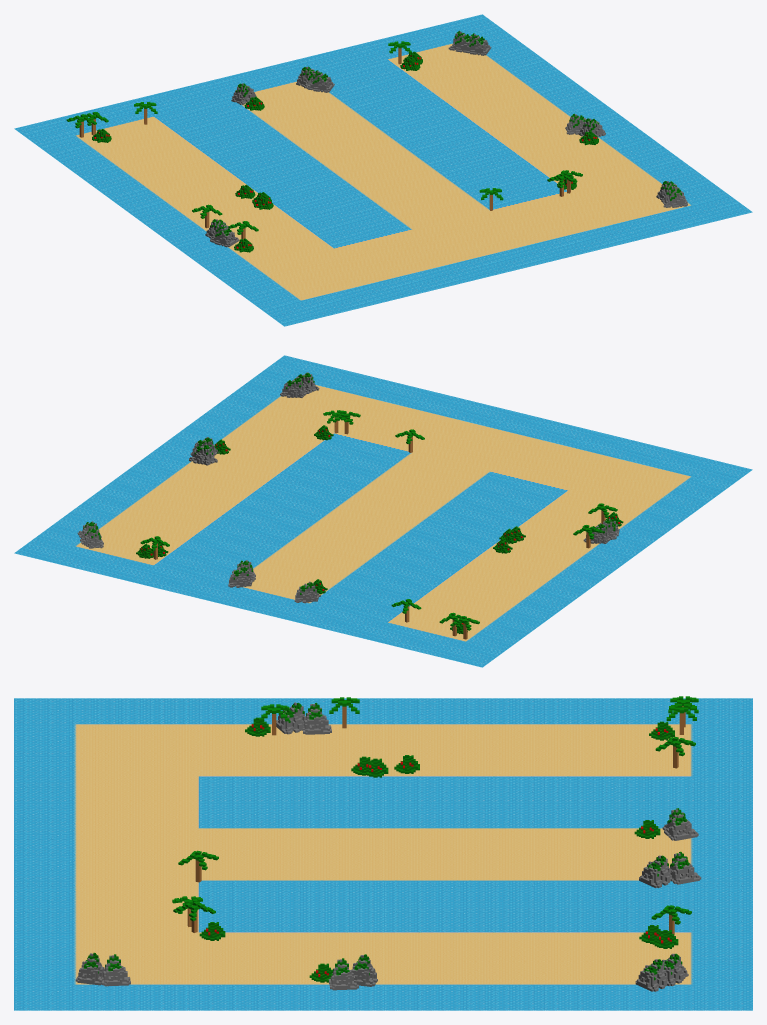
File: Map18.fbx
3 views of the same model, one above another, from view 1: azimuth 30°, elevation 25°; view 2: azimuth 150°, elevation 25°; view 3: azimuth 270°, elevation 25° (orthographic). The views are drawn at different scales.
Visible parts, largest first — view 1: pPlane1; view 2: pPlane1; view 3: pPlane1, BigRock2, BigRock, BigRock4, BigRock1, BigRock6, BigRock9, BigRock8, BigRock7, BigRock10, BigRock5, BigRock3.
Part boxes in pixels (x1,y1,x2,y2): pPlane1: (14, 14, 752, 326); pPlane1: (14, 355, 752, 667); pPlane1: (14, 698, 752, 1010); BigRock2: (639, 855, 672, 888); BigRock: (662, 808, 698, 840); BigRock4: (635, 959, 667, 991); BigRock1: (670, 851, 701, 884); BigRock6: (75, 952, 104, 985); BigRock9: (302, 702, 331, 734); BigRock8: (102, 954, 130, 986); BigRock7: (328, 958, 358, 990); BigRock10: (276, 702, 306, 734); BigRock5: (351, 954, 377, 986); BigRock3: (662, 953, 688, 986).
Bounding box in the file's own units: 60 × 2.46 × 60.
